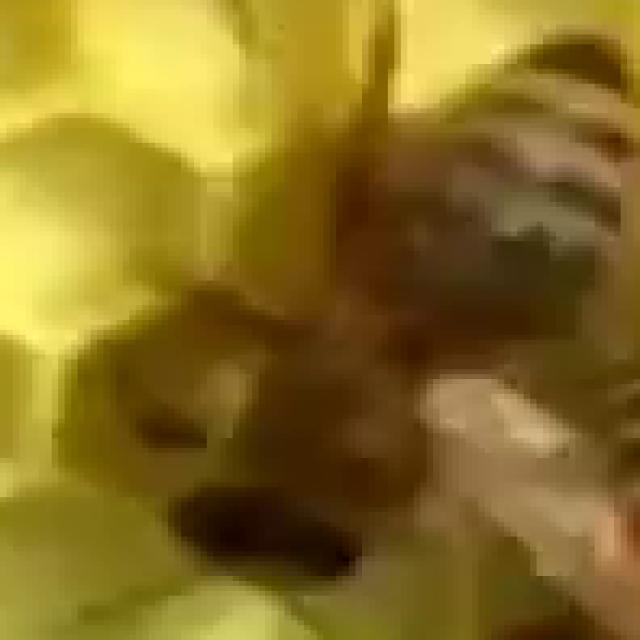honeybee: (175, 45, 628, 578)
